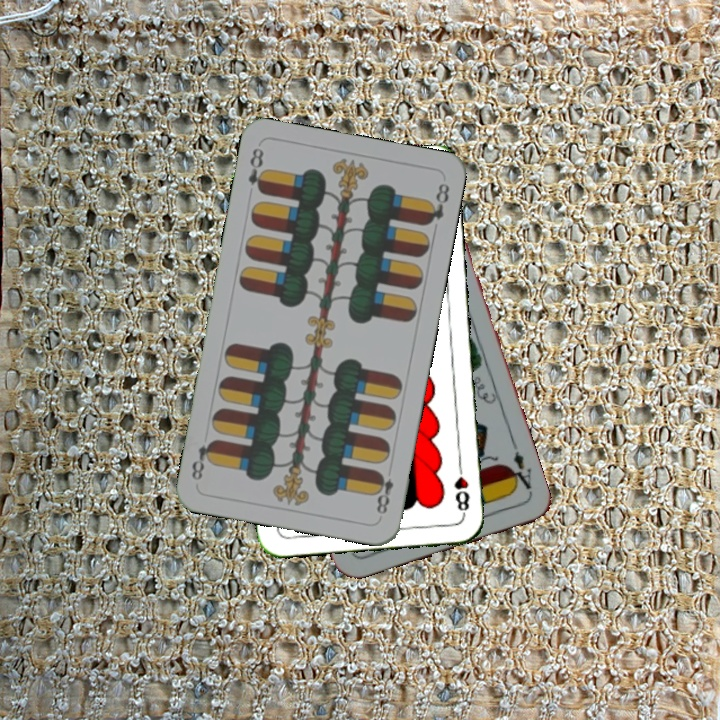E8: (244, 144, 270, 197), (370, 468, 396, 517)
EA: (504, 447, 535, 497)
H8: (449, 459, 473, 518)
